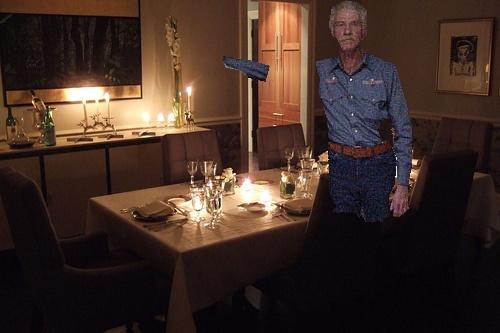tampered: (224, 1, 412, 222)
